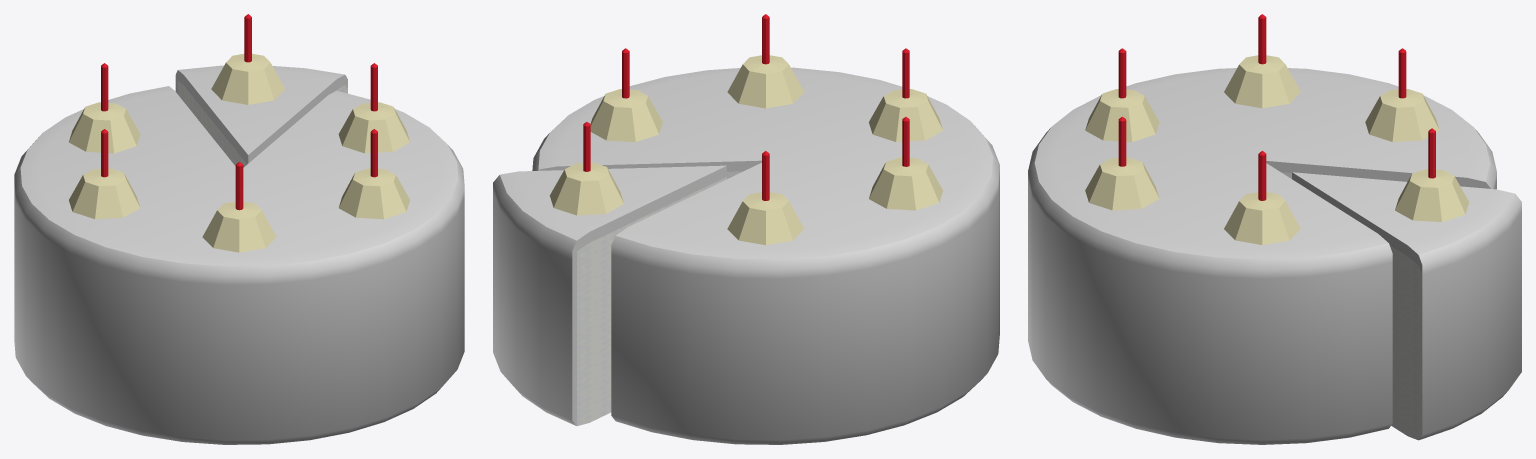
File: Cake.fbx
3 renders of one model, left to right at view 1: azimuth 30°, elevation 25°; view 2: azimuth 150°, elevation 25°; view 3: azimuth 270°, elevation 25°, orthographic. The views are drawn at different scales.
Visible parts, largest first — view 1: Cylinder.001, Cone.002, Cone.005, Cone.001, Cone.003, Cone, Cone.004; view 2: Cylinder.001, Cone.001, Cone.003, Cone.004, Cone.005, Cone, Cone.002; view 3: Cylinder.001, Cone.001, Cone, Cone.003, Cone.004, Cone.005, Cone.002.
Boxes of the visible parts, x1,y1,x2,y2 form: Cylinder.001: (14,65,464,444); Cone.002: (202,162,276,252); Cone.005: (211,14,285,104); Cone.001: (338,129,409,219); Cone.003: (69,129,140,219); Cone: (338,63,409,153); Cone.004: (69,63,140,153); Cylinder.001: (493,67,999,444); Cone.001: (727,14,804,108); Cone.003: (869,117,943,210); Cone.004: (727,151,803,245); Cone.005: (549,122,623,215); Cone: (590,48,662,141); Cone.002: (869,48,942,141); Cylinder.001: (1028,68,1521,444); Cone.001: (1085,116,1159,210); Cone: (1224,151,1300,244); Cone.003: (1224,14,1300,108); Cone.004: (1365,48,1439,141); Cone.005: (1395,128,1469,221); Cone.002: (1085,48,1159,141).
Size of the model in its own units: 200 by 127 by 211.
